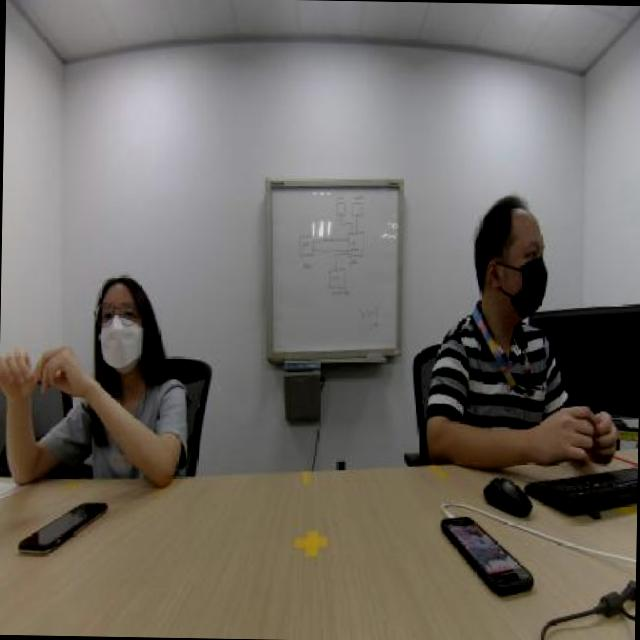Person: (1, 210, 200, 478), (414, 162, 574, 440)
